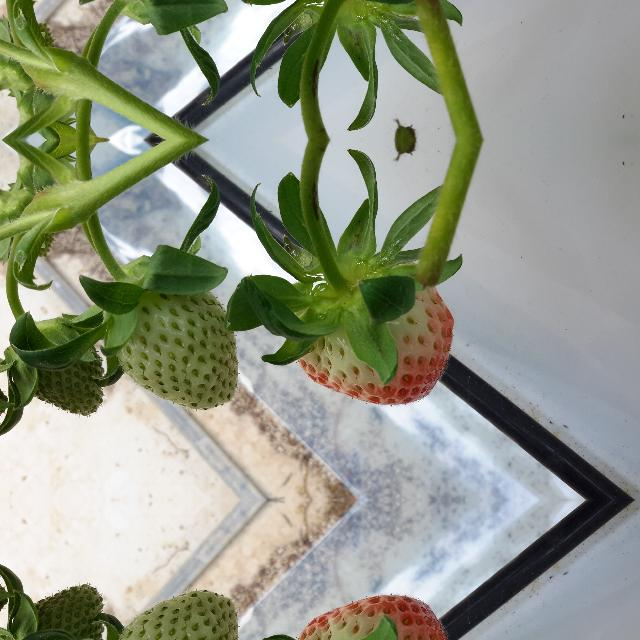Health_100: (299, 284, 453, 406), (299, 594, 453, 640)
Health_25: (107, 268, 239, 412), (9, 322, 107, 418), (107, 588, 239, 640), (9, 581, 107, 640)
